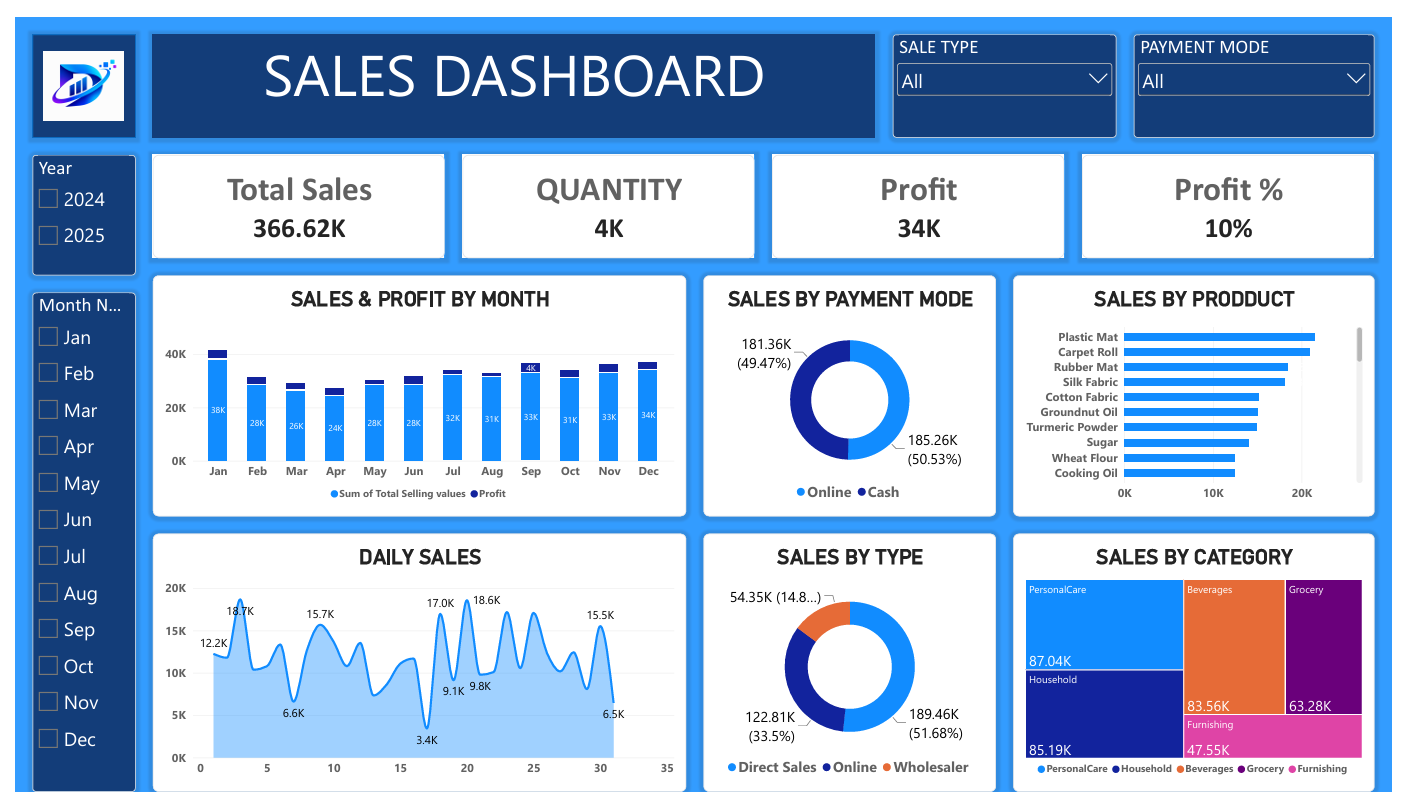

The dashboard page shown, as its layout file describes it:
{"tool":"powerbi","page":{"name":"Page 1","canvas":[1920,1080],"ordinal":0},"visuals":[{"type":"shape","box":[24,24,144,144],"z":0},{"type":"textbox","box":[192,24,1008,144],"z":1000},{"type":"slicer","fields":{"Values":["InputData.Year"]},"box":[24,192,144,168],"z":2000},{"type":"slicer","fields":{"Values":["InputData.Month Name"]},"box":[24,384,144,696],"z":3000},{"type":"slicer","fields":{"Values":["InputData.SALE TYPE"]},"box":[1224,24,312,144],"z":4000},{"type":"slicer","fields":{"Values":["InputData.PAYMENT MODE"]},"box":[1560,24,336,144],"z":5000},{"type":"cardVisual","fields":{"Data":["InputData.Profit"]},"box":[1056,192,408,144],"z":6000},{"type":"cardVisual","fields":{"Data":["InputData.Profit %"]},"box":[1488,192,408,144],"z":7000},{"type":"cardVisual","fields":{"Data":["Sum(InputData.QUANTITY)"]},"box":[624,192,408,144],"z":8000},{"type":"cardVisual","fields":{"Data":["Sum(InputData.Total Selling Value)"]},"box":[192,192,408,144],"z":9000},{"type":"columnChart","title":"SALES & PROFIT BY MONTH","fields":{"Category":["InputData.Month Name"],"Y":["Sum(InputData.Total Selling values)","InputData.Profit"]},"box":[192,360,744,336],"z":10000},{"type":"areaChart","title":"DAILY SALES","fields":{"Category":["InputData.Day"],"Y":["Sum(InputData.Total Selling values)"]},"box":[192,720,744,360],"z":11000},{"type":"clusteredBarChart","title":"SALES BY PRODDUCT","fields":{"Category":["InputData.MasterData.PRODUCT"],"Y":["Sum(InputData.Total Selling values)"]},"box":[1392,360,504,336],"z":12000},{"type":"treemap","title":"SALES BY CATEGORY","fields":{"Group":["InputData.MasterData.CATEGORY"],"Values":["Sum(InputData.Total Selling values)"]},"box":[1392,720,504,360],"z":13000},{"type":"donutChart","title":"SALES BY TYPE","fields":{"Category":["InputData.SALE TYPE"],"Y":["Sum(InputData.Total Selling values)"]},"box":[960,720,408,360],"z":14000},{"type":"donutChart","title":"SALES BY PAYMENT MODE","fields":{"Category":["InputData.PAYMENT MODE"],"Y":["Sum(InputData.Total Selling values)"]},"box":[960,360,408,336],"z":15000},{"type":"image","box":[24,48,144,96],"z":15001}]}

Visuals, with their boxes in screenshot pixels (x1, y1, x2, y2), scaled from the page's 1920x1080 canvas onto the 1408x807 screenshot:
shape: (18, 18, 123, 126)
textbox: (141, 18, 880, 126)
slicer - InputData.Year: (18, 143, 123, 269)
slicer - InputData.Month Name: (18, 287, 123, 806)
slicer - InputData.SALE TYPE: (898, 18, 1126, 126)
slicer - InputData.PAYMENT MODE: (1144, 18, 1390, 126)
cardVisual - InputData.Profit: (774, 143, 1074, 251)
cardVisual - InputData.Profit %: (1091, 143, 1390, 251)
cardVisual - Sum(InputData.QUANTITY): (458, 143, 757, 251)
cardVisual - Sum(InputData.Total Selling Value): (141, 143, 440, 251)
"SALES & PROFIT BY MONTH" columnChart: (141, 269, 686, 520)
"DAILY SALES" areaChart: (141, 538, 686, 806)
"SALES BY PRODDUCT" clusteredBarChart: (1021, 269, 1390, 520)
"SALES BY CATEGORY" treemap: (1021, 538, 1390, 806)
"SALES BY TYPE" donutChart: (704, 538, 1003, 806)
"SALES BY PAYMENT MODE" donutChart: (704, 269, 1003, 520)
image: (18, 36, 123, 108)
